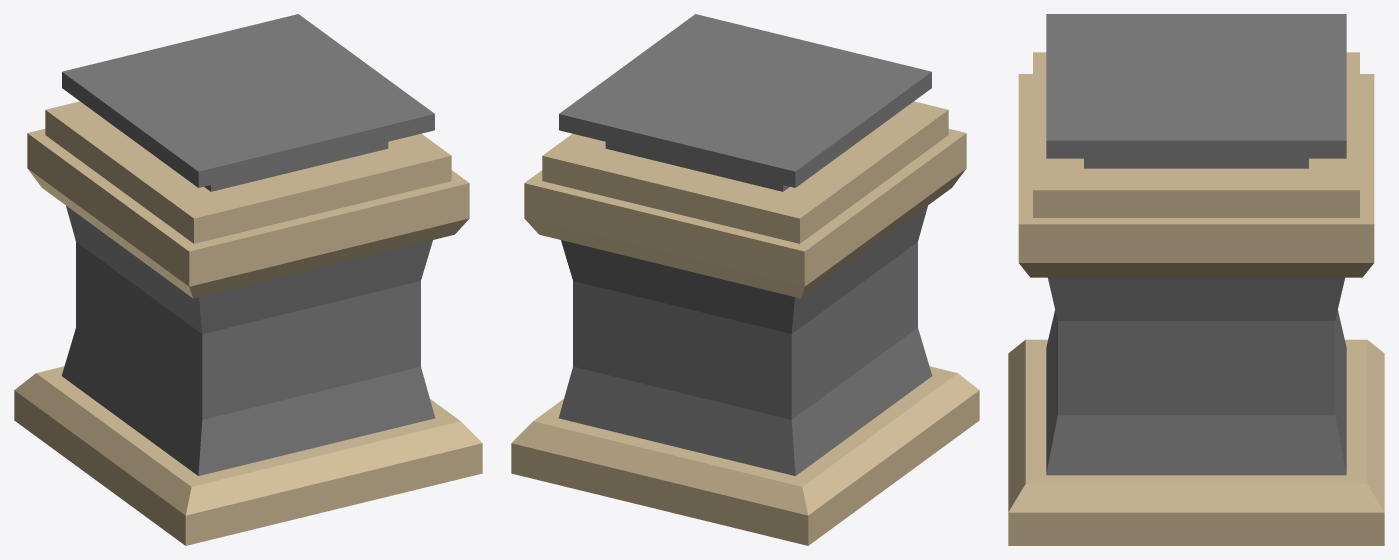
Rendered from Altar.fbx.
3 renders of one model, left to right at view 1: azimuth 30°, elevation 25°; view 2: azimuth 150°, elevation 25°; view 3: azimuth 270°, elevation 25°, orthographic. The views are drawn at different scales.
Visible parts, largest first — view 1: Stone Altar; view 2: Stone Altar; view 3: Stone Altar.
Boxes of the visible parts, x1,y1,x2,y2 form: Stone Altar: (14, 14, 482, 545); Stone Altar: (511, 14, 979, 545); Stone Altar: (1008, 14, 1384, 545).
Size of the model in its own units: 170 by 194 by 170.
